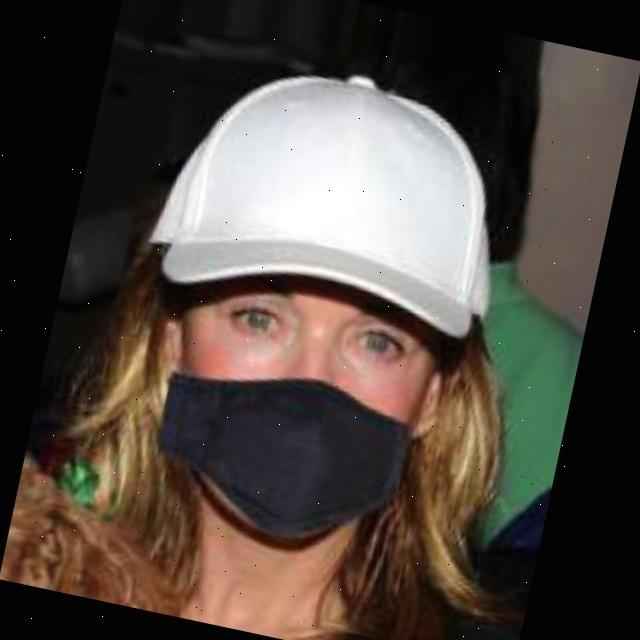suspicion: (108, 252, 446, 589)
